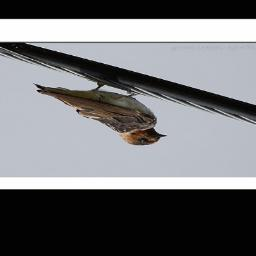Swallow: (29, 79, 168, 147)
